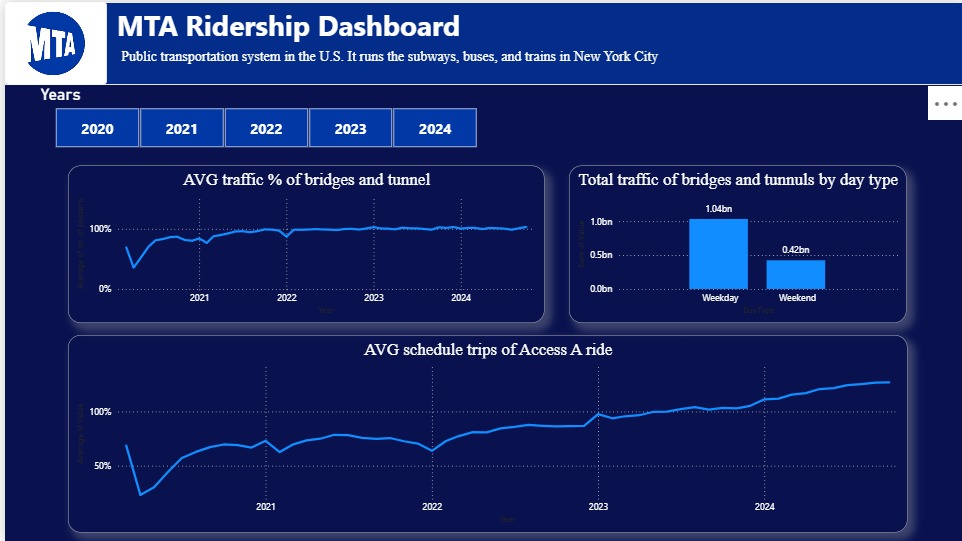

The dashboard page shown, as its layout file describes it:
{"tool":"powerbi","page":{"name":"page 3","canvas":[1280,720],"ordinal":2},"visuals":[{"type":"textbox","box":[0,0,1280,110],"z":0},{"type":"columnChart","title":"Total traffic of bridges and tunnuls by day type","fields":{"Y":["Sum(bridge and tunnels.Value)"],"Category":["MTA_Daily_Ridership.DayType"]},"box":[752.8,218.4,450,209.9],"z":1000},{"type":"lineChart","title":"AVG traffic % of bridges and tunnel ","fields":{"Y":["Avg(bridge %.no .of passers)"],"Category":["access %.Date.Variation.Date Hierarchy.Year","access %.Date.Variation.Date Hierarchy.Month"]},"box":[83.7,218.2,635.3,209.9],"z":2000},{"type":"lineChart","title":" AVG schedule trips of Access A ride","fields":{"Y":["Avg(access %.Value)"],"Category":["access %.Date.Variation.Date Hierarchy.Year","access %.Date.Variation.Date Hierarchy.Month"]},"box":[83.2,444,1119.6,263],"z":3000},{"type":"image","box":[0,0,135.7,110],"z":4000},{"type":"slicer","title":"Years","fields":{"Values":["access.Year"]},"box":[41,109.8,612.9,90.5],"z":5000},{"type":"textbox","box":[150,55.7,762.9,31.4],"z":8000}]}

Visuals, with their boxes in screenshot pixels (x1, y1, x2, y2), scaled from the page's 1280x720 canvas onto the 962x541 screenshot:
textbox: {"x1": 0, "y1": 0, "x2": 961, "y2": 83}
"Total traffic of bridges and tunnuls by day type" columnChart: {"x1": 566, "y1": 164, "x2": 904, "y2": 322}
"AVG traffic % of bridges and tunnel " lineChart: {"x1": 63, "y1": 164, "x2": 540, "y2": 322}
" AVG schedule trips of Access A ride" lineChart: {"x1": 63, "y1": 334, "x2": 904, "y2": 531}
image: {"x1": 0, "y1": 0, "x2": 102, "y2": 83}
"Years" slicer: {"x1": 31, "y1": 83, "x2": 491, "y2": 151}
textbox: {"x1": 113, "y1": 42, "x2": 686, "y2": 65}
